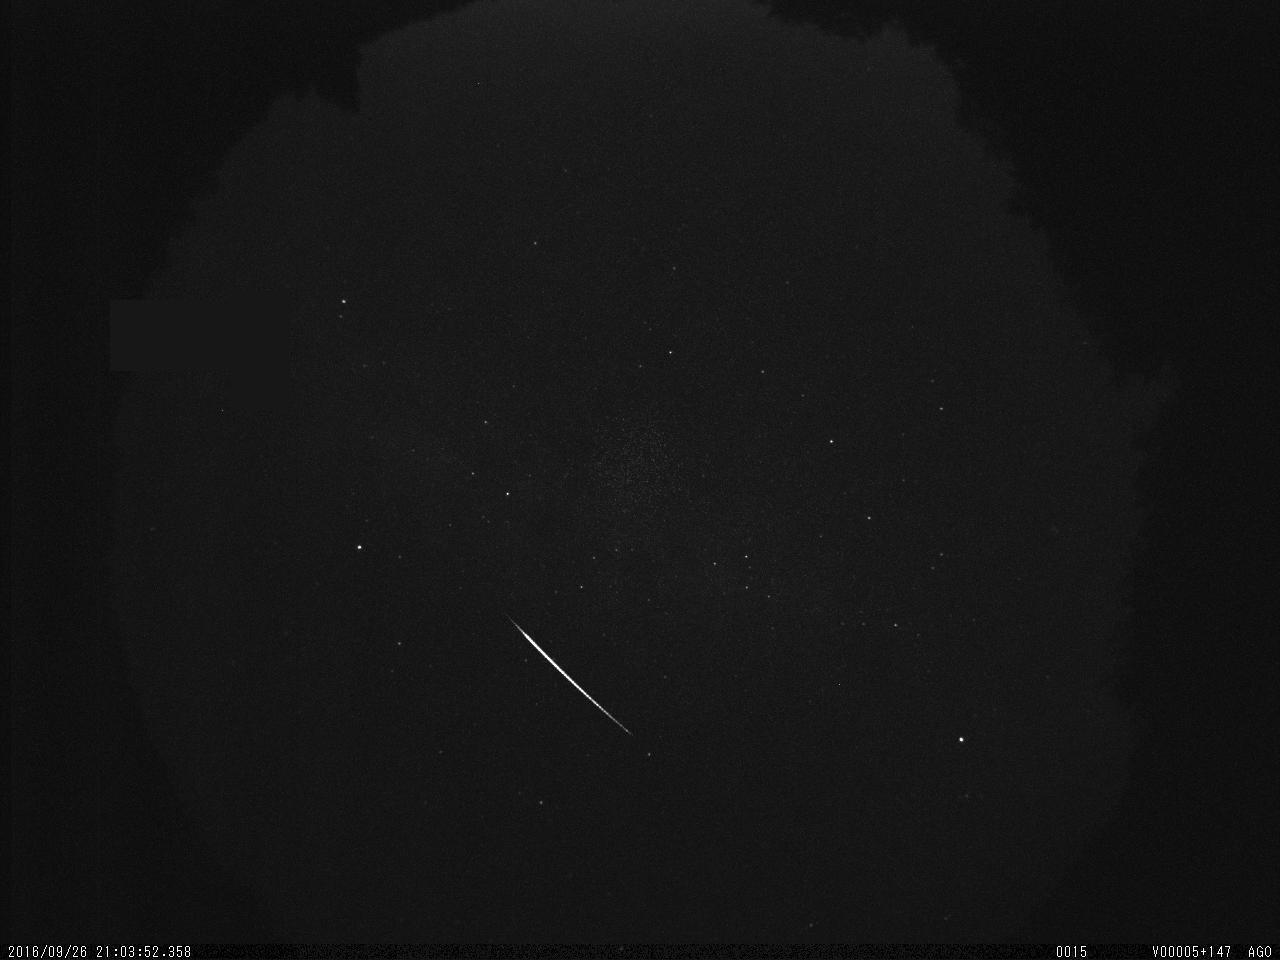Meteor: (510, 615, 634, 737)
